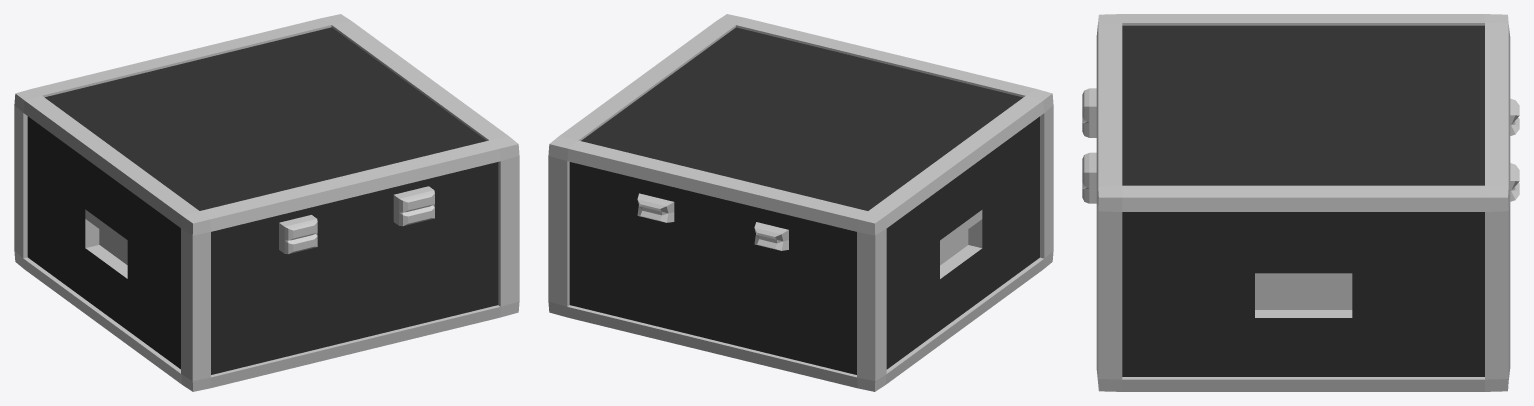
The model's file is SmallBox.fbx.
3 renders of one model, left to right at view 1: azimuth 30°, elevation 25°; view 2: azimuth 150°, elevation 25°; view 3: azimuth 270°, elevation 25°, orthographic. The views are drawn at different scales.
Visible parts, largest first — view 1: Cube.007; view 2: Cube.007; view 3: Cube.007.
Boxes of the visible parts, x1=… form: Cube.007: x1=14, y1=14, x2=519, y2=391; Cube.007: x1=548, y1=14, x2=1053, y2=391; Cube.007: x1=1082, y1=14, x2=1519, y2=391.
Bounding box in the file's own units: 100 × 49.42 × 100.
